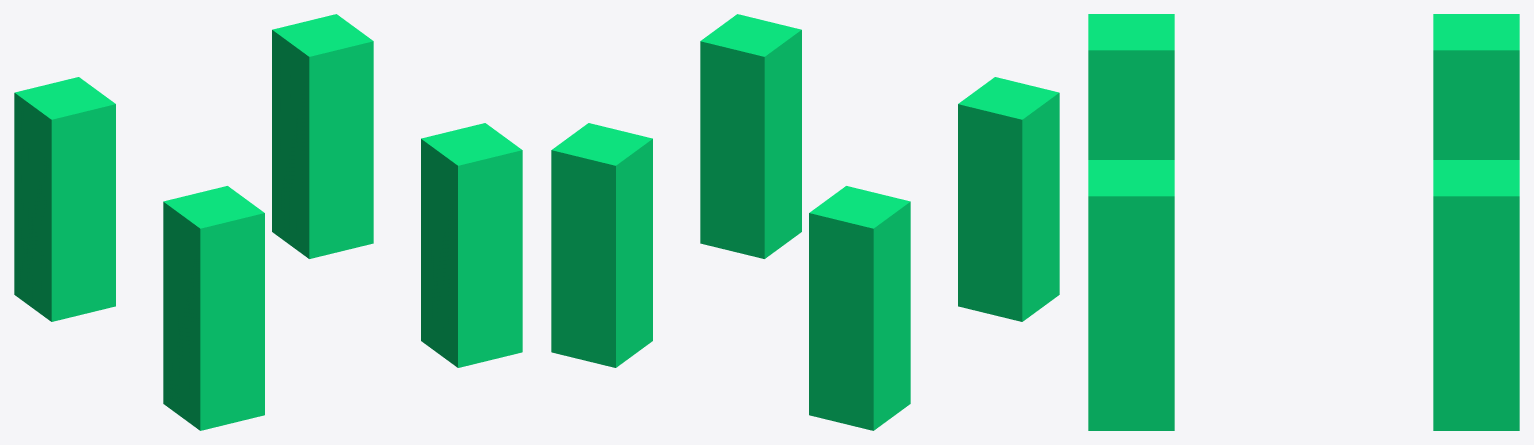
The model's file is foguete-verde.obj.
The picture shows the model from 3 angles, left to right: view 1: azimuth 30°, elevation 25°; view 2: azimuth 150°, elevation 25°; view 3: azimuth 270°, elevation 25°; orthographic projection. The views are drawn at different scales.
Size of the model in its own units: 0.5 by 0.3 by 0.5.
Materials: 1 (1 with a texture image).
